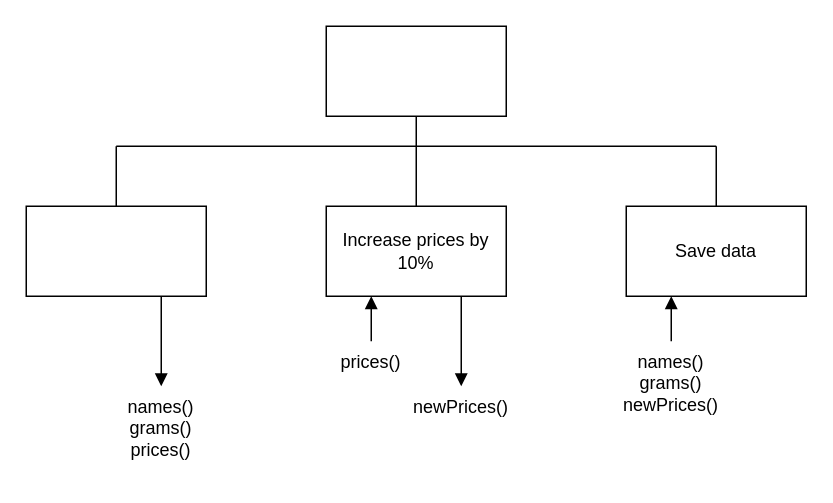
This 833x503 diagram has some shape labels left out. The centre of each missing label's shape, as x and y in pixels:
Get data: the point at 115,250
Update Prices: the point at 415,70
